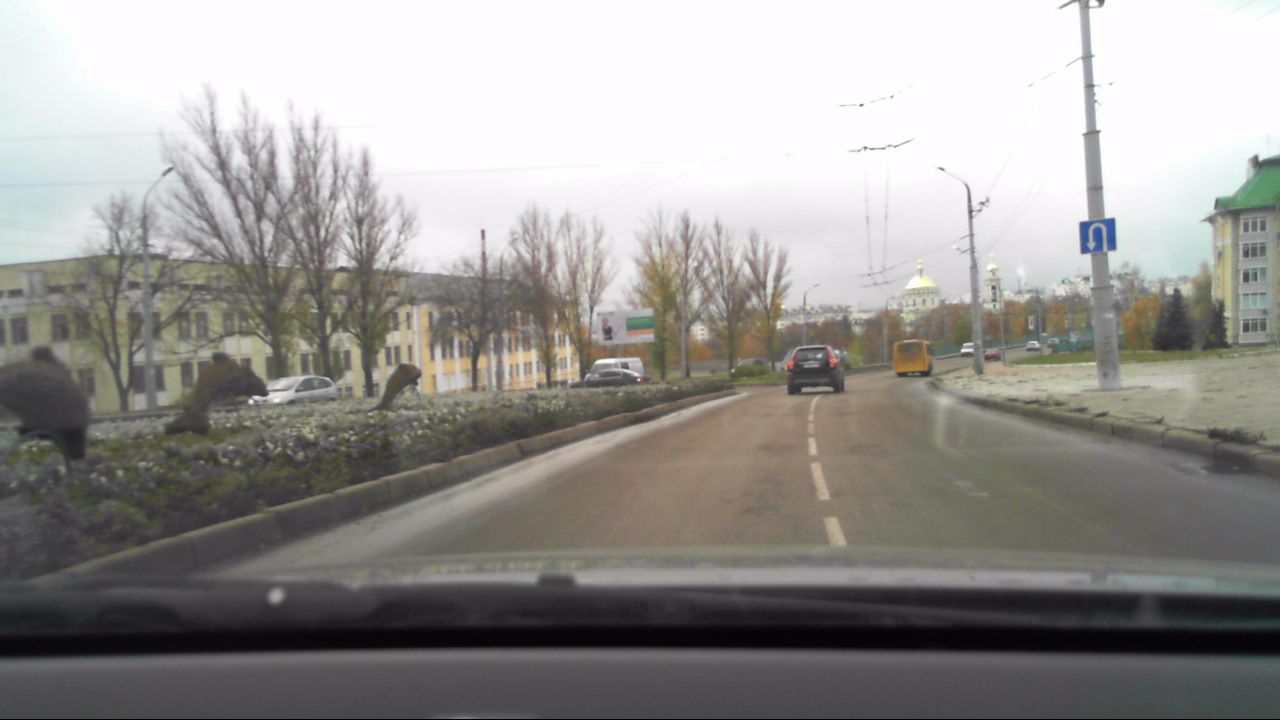U-turn: (1080, 221, 1115, 252)
